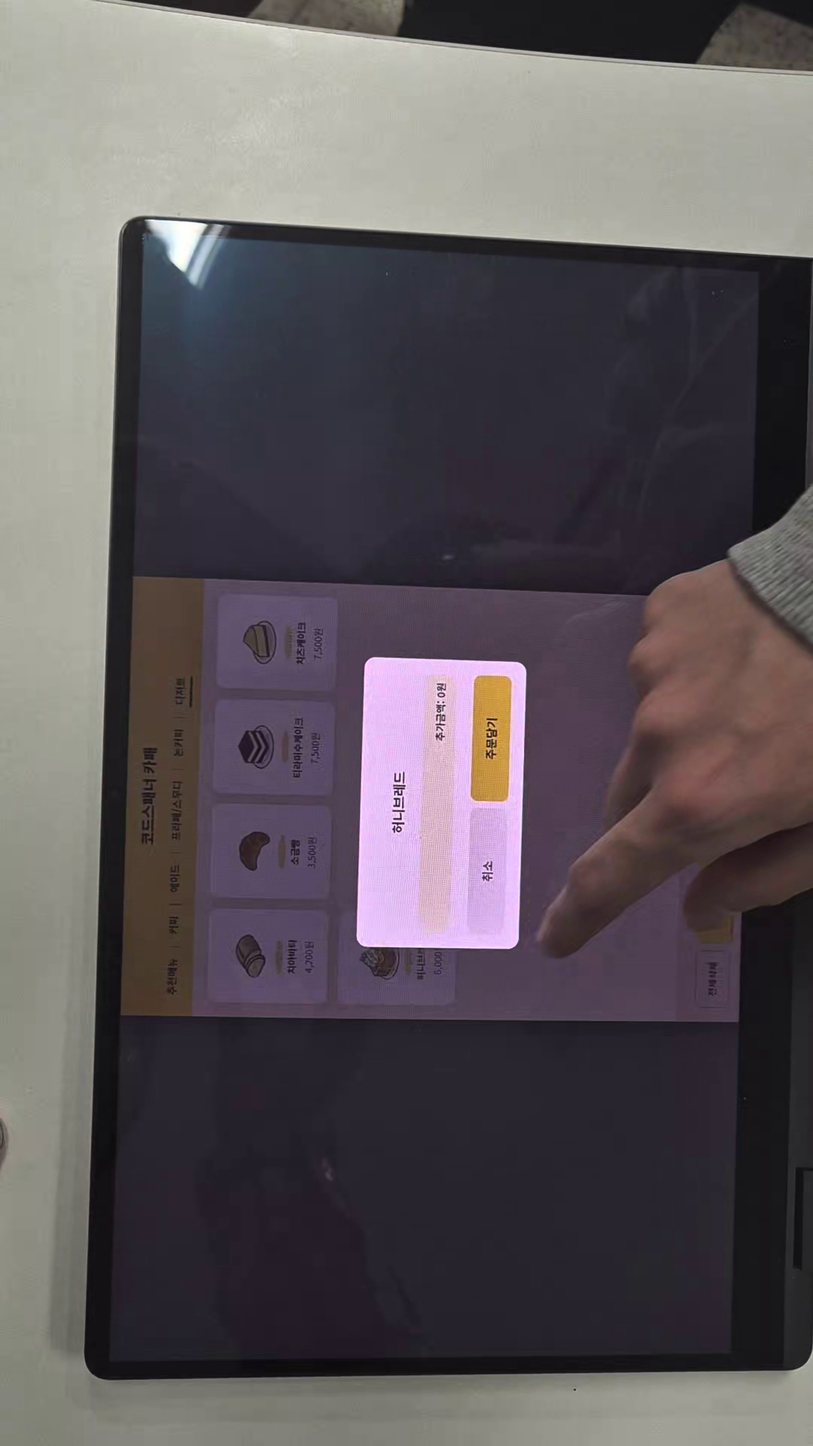action_button: (469, 807, 505, 938), (474, 674, 510, 800)
popup_modal: (362, 655, 522, 948)
